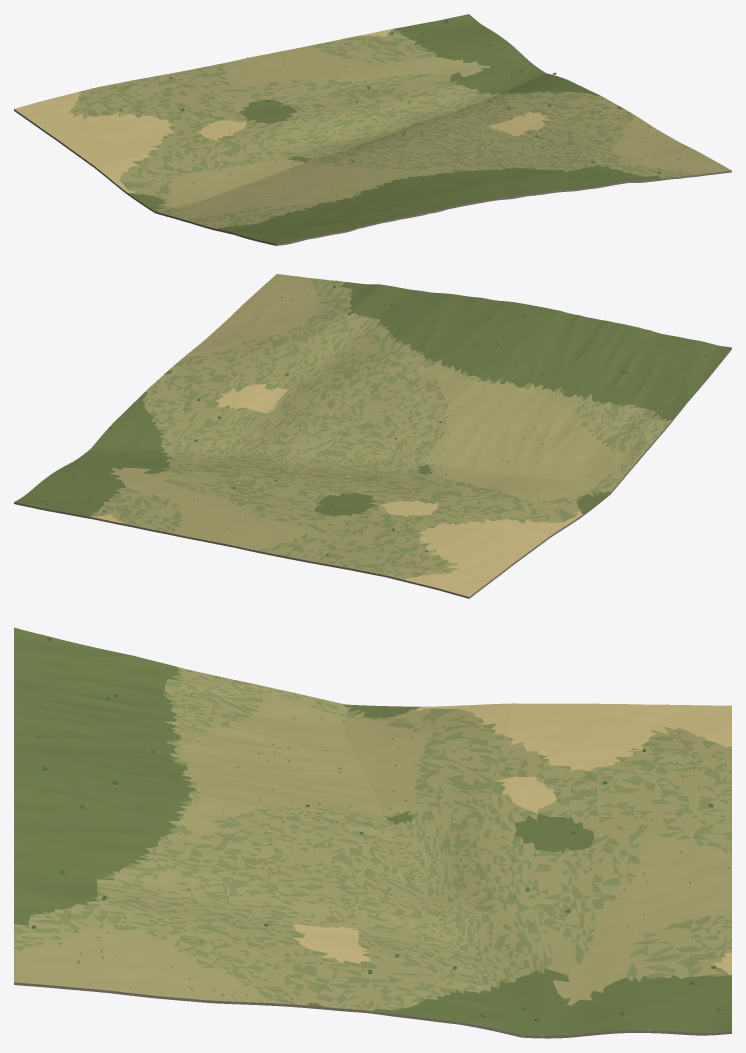
Rendered from parca_+8_+1-yakin.glb.
3 views of the same model, one above another, from view 1: azimuth 30°, elevation 25°; view 2: azimuth 150°, elevation 25°; view 3: azimuth 270°, elevation 25° (orthographic). The views are drawn at different scales.
Parts seen in each view (by area): view 1: parca_+8_+1_arazi, parca_+8_+1_bitkiler; view 2: parca_+8_+1_arazi, parca_+8_+1_bitkiler; view 3: parca_+8_+1_arazi, parca_+8_+1_bitkiler.
Boxes of the visible parts, x1=… form: parca_+8_+1_arazi: x1=14, y1=14, x2=731, y2=245; parca_+8_+1_bitkiler: x1=89, y1=19, x2=686, y2=235; parca_+8_+1_arazi: x1=14, y1=274, x2=731, y2=598; parca_+8_+1_bitkiler: x1=44, y1=285, x2=708, y2=571; parca_+8_+1_arazi: x1=14, y1=627, x2=731, y2=1038; parca_+8_+1_bitkiler: x1=15, y1=638, x2=729, y2=1029.
Bounding box in the file's own units: 1000 × 165 × 1000.
